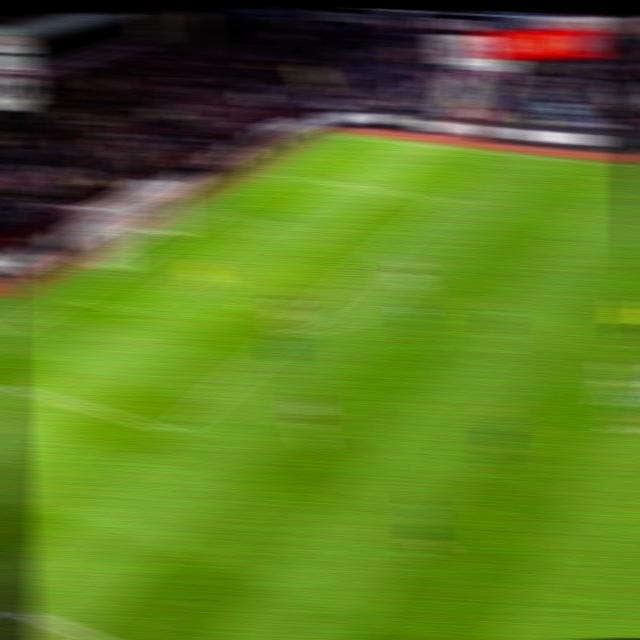bigarea_bottom_inner: (157, 417, 191, 442)
bigarea_top_inner: (429, 191, 461, 208)
bigarea_top_outter: (266, 166, 296, 182)
bottom_arc_area_intersection: (274, 323, 305, 343)
corner: (333, 127, 365, 142)
smallarea_bottom_inner: (119, 300, 151, 323)
smallarea_bottom_outter: (56, 286, 87, 304)
smallarea_top_inner: (255, 214, 286, 231)
smallarea_top_outter: (200, 204, 232, 220)
top_arc_area_intersection: (369, 242, 399, 259)
